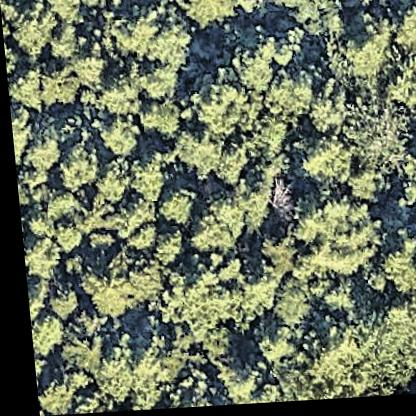tree-top: (145, 248, 279, 364), (282, 190, 382, 284), (260, 320, 367, 405), (179, 163, 279, 253), (358, 296, 416, 400), (334, 99, 408, 170), (109, 1, 190, 65), (71, 264, 156, 324), (333, 14, 392, 87), (181, 80, 244, 143), (235, 33, 288, 101), (118, 342, 169, 412), (264, 0, 343, 43), (82, 337, 135, 401), (370, 229, 416, 302), (290, 134, 354, 186), (209, 355, 265, 408), (52, 316, 101, 376), (7, 1, 58, 58), (299, 81, 348, 139), (168, 126, 218, 181), (375, 50, 416, 116), (155, 367, 217, 410), (258, 71, 311, 121), (18, 235, 66, 289), (28, 367, 84, 413), (177, 0, 246, 34), (49, 144, 98, 190), (33, 60, 82, 106), (95, 112, 142, 158), (151, 185, 196, 229), (261, 286, 304, 331), (17, 131, 58, 178), (23, 308, 61, 358), (337, 167, 382, 209), (97, 75, 138, 119), (86, 159, 127, 203), (135, 61, 176, 105), (388, 159, 416, 223), (120, 158, 161, 201), (5, 63, 42, 107), (144, 229, 181, 266), (40, 283, 76, 320), (45, 220, 78, 253), (341, 0, 403, 14)
